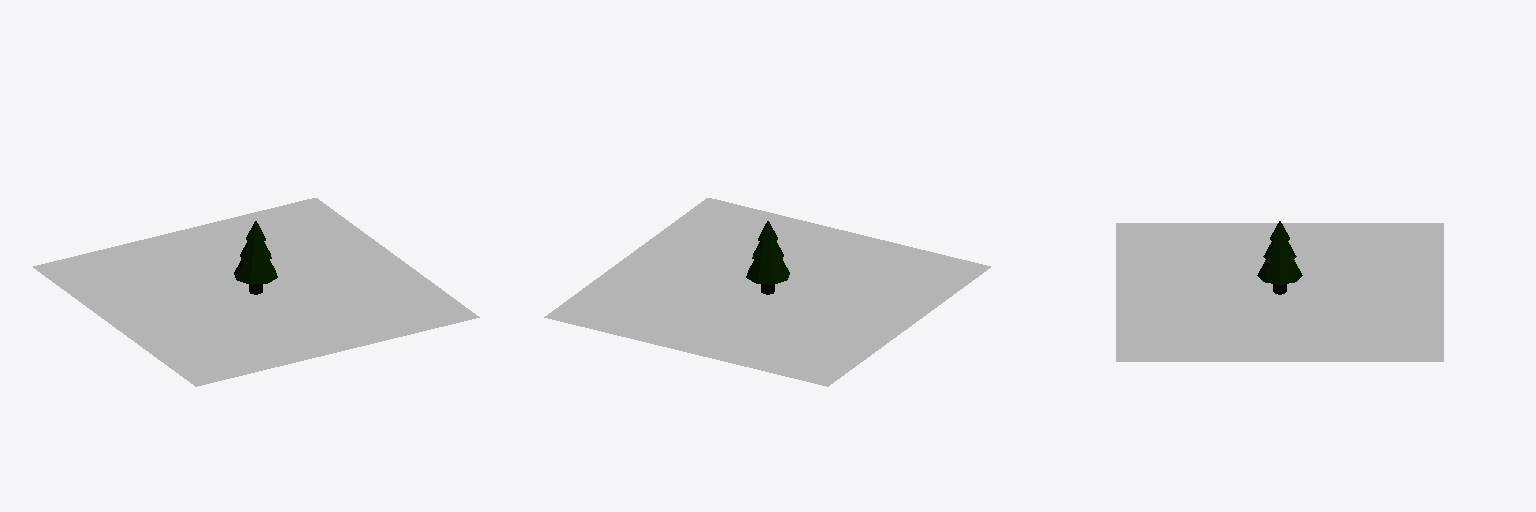
Rendered from CartoonTree.obj.
3 renders of one model, left to right at view 1: azimuth 30°, elevation 25°; view 2: azimuth 150°, elevation 25°; view 3: azimuth 270°, elevation 25°, orthographic.
Visible parts, largest first — view 1: Plane, Cone, Cone.001; view 2: Plane, Cone, Cone.001; view 3: Plane, Cone, Cone.001.
Part boxes in pixels (x1,y1,x2,y2): Plane: (33, 198, 479, 386); Cone: (234, 260, 277, 284); Cone.001: (240, 242, 271, 262); Plane: (544, 198, 990, 386); Cone: (746, 260, 789, 284); Cone.001: (752, 242, 783, 262); Plane: (1116, 223, 1443, 361); Cone: (1257, 260, 1302, 284); Cone.001: (1263, 242, 1296, 263).
Size of the model in its own units: 30 by 7.29 by 30.